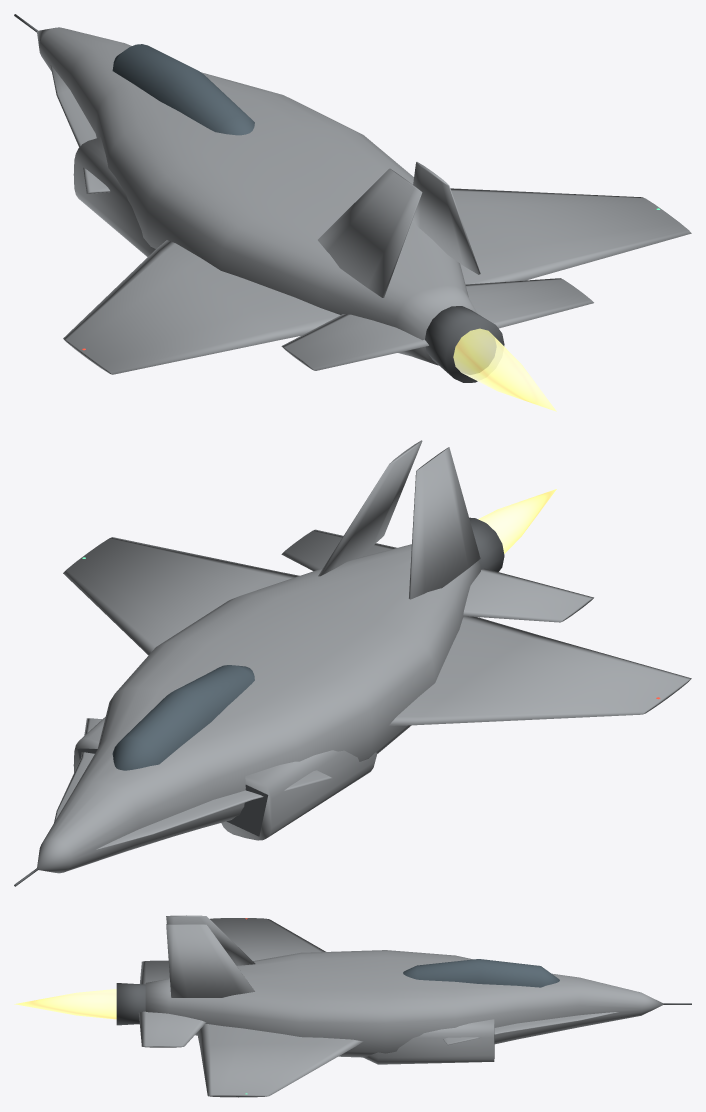
Rendered from strike-jet.glb.
3 renders of one model, top to bottom at view 1: azimuth 30°, elevation 25°; view 2: azimuth 150°, elevation 25°; view 3: azimuth 270°, elevation 25°, orthographic. The views are drawn at different scales.
Visible parts, largest first — view 1: F35, Exhaust; view 2: F35, Exhaust; view 3: F35, Exhaust.
Boxes of the visible parts, x1=… form: F35: x1=14, y1=14, x2=691, y2=382; Exhaust: x1=453, y1=328, x2=556, y2=411; F35: x1=14, y1=440, x2=691, y2=886; Exhaust: x1=478, y1=489, x2=556, y2=553; F35: x1=116, y1=915, x2=691, y2=1097; Exhaust: x1=14, y1=989, x2=116, y2=1019.
Bounding box in the file's own units: 8.64 × 2.64 × 14.
